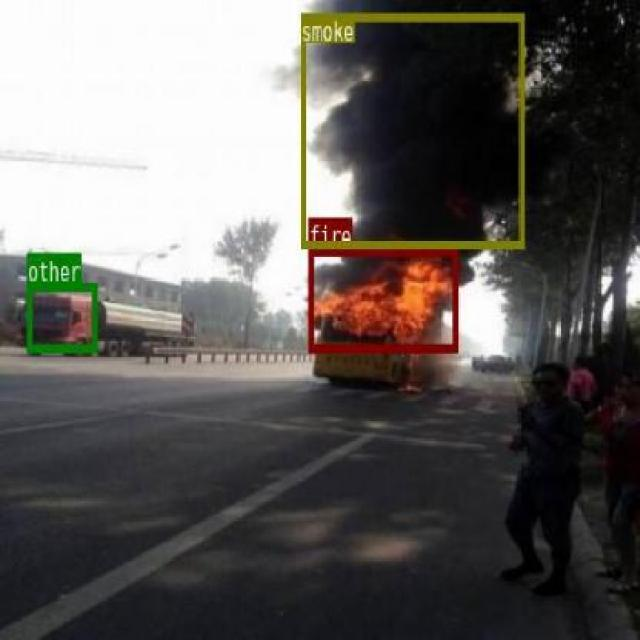Fire: (308, 246, 457, 351)
Smoke: (300, 11, 523, 248)
